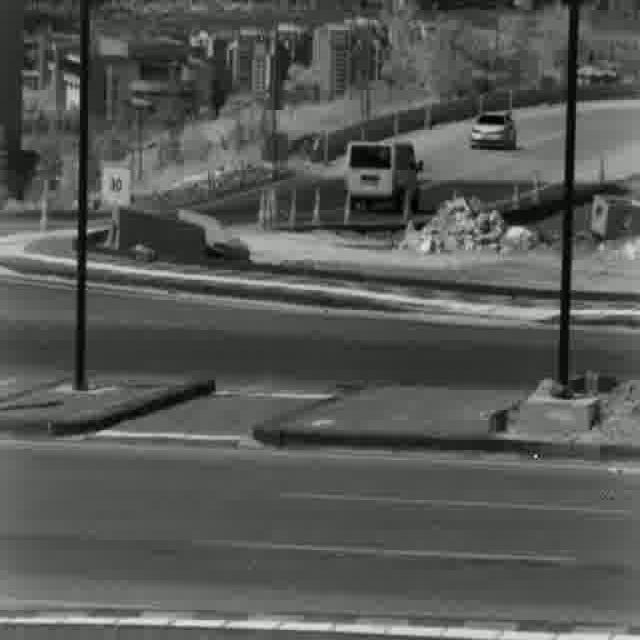Car: (346, 141, 421, 213), (472, 113, 516, 151)
